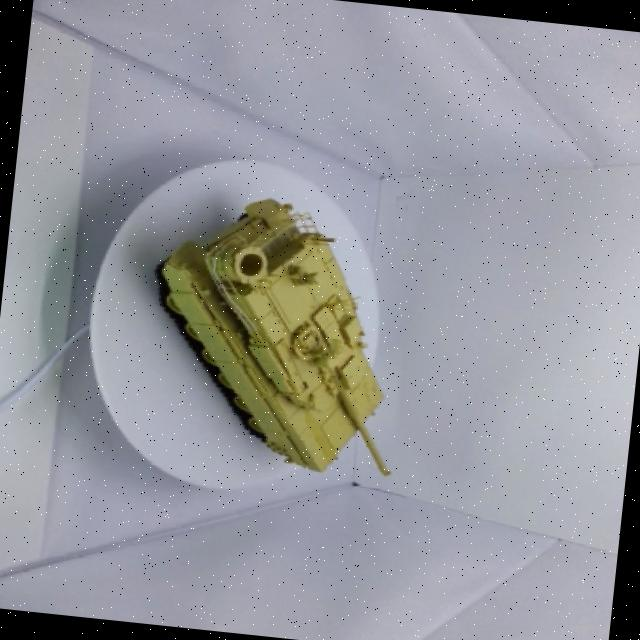korea tank: (118, 182, 452, 508)
